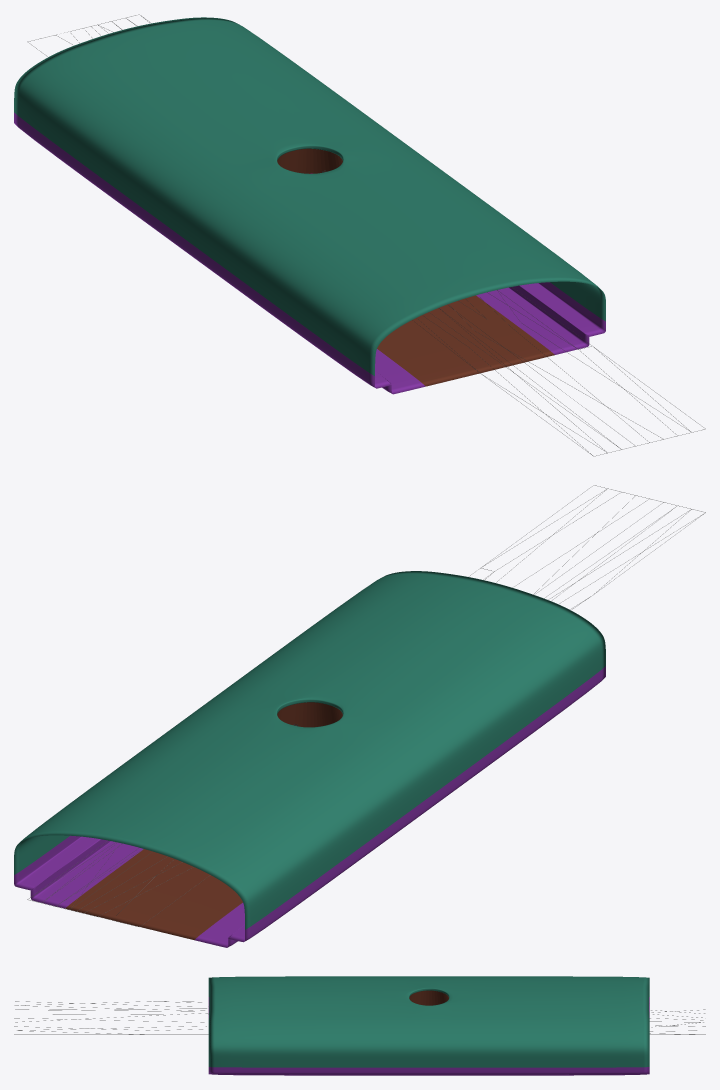
Rendered from Hangard.fbx.
The picture shows the model from 3 angles, top to bottom: view 1: azimuth 30°, elevation 25°; view 2: azimuth 150°, elevation 25°; view 3: azimuth 270°, elevation 25°; orthographic projection. The views are drawn at different scales.
Visible parts, largest first — view 1: Tunnel, CABLE, Tunnel.001; view 2: Tunnel, CABLE, Tunnel.001; view 3: Tunnel, CABLE, Tunnel.001.
Boxes of the visible parts, x1,y1,x2,y2 form: Tunnel: [14, 17, 605, 394]; CABLE: [27, 14, 705, 456]; Tunnel.001: [277, 148, 342, 173]; Tunnel: [14, 571, 605, 947]; CABLE: [27, 485, 705, 926]; Tunnel.001: [277, 702, 342, 727]; Tunnel: [208, 976, 649, 1075]; CABLE: [14, 1001, 705, 1034]; Tunnel.001: [409, 990, 448, 1005].
Size of the model in its own units: 10446 by 3494 by 43609.
